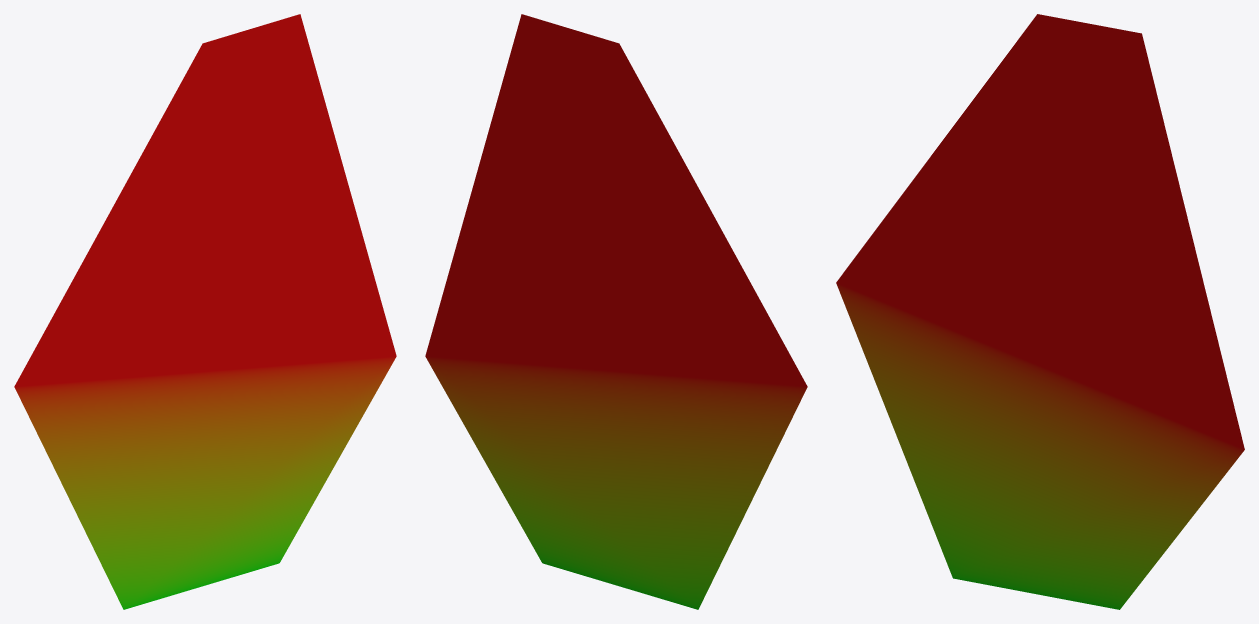
File: Dead Broom Bush_LOD3_Var3_tlpjdhwia.fbx
3 views of the same model, side by side, from view 1: azimuth 30°, elevation 25°; view 2: azimuth 150°, elevation 25°; view 3: azimuth 330°, elevation 25° (orthographic). The views are drawn at different scales.
Parts seen in each view (by area): view 1: _4356_Var3_LOD3; view 2: _4356_Var3_LOD3; view 3: _4356_Var3_LOD3.
Part boxes in pixels (left/top/right/bottom): _4356_Var3_LOD3: left=14, top=14, right=396, bottom=609; _4356_Var3_LOD3: left=425, top=14, right=807, bottom=609; _4356_Var3_LOD3: left=836, top=14, right=1244, bottom=609.
Bounding box in the file's own units: 30.57 × 42.23 × 5.19e-06.
